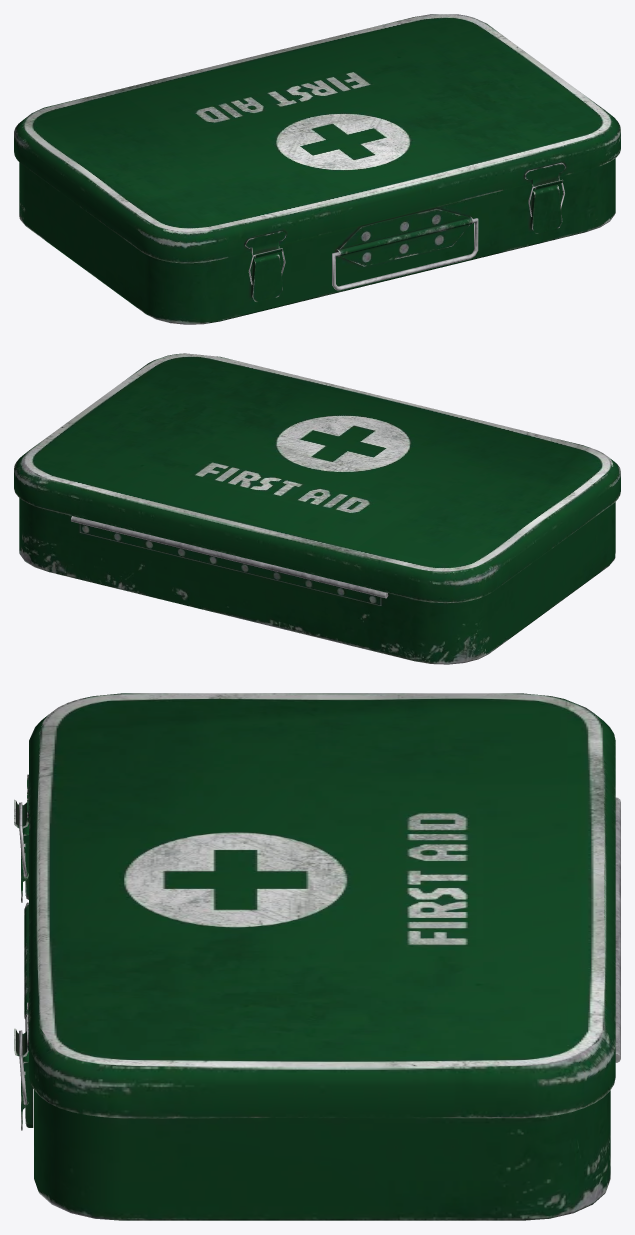
The model's file is medical_box.glb.
3 views of the same model, one above another, from view 1: azimuth 30°, elevation 25°; view 2: azimuth 150°, elevation 25°; view 3: azimuth 270°, elevation 25° (orthographic). The views are drawn at different scales.
Parts seen in each view (by area): view 1: medical_box_latch; view 2: medical_box_latch; view 3: medical_box_latch.
Part boxes in pixels (<box>): medical_box_latch: <box>14,14,620,324</box>; medical_box_latch: <box>14,353,620,664</box>; medical_box_latch: <box>14,693,620,1220</box>.
Size of the model in its own units: 0.5255 by 0.0975 by 0.3501.
Materials: 1 (1 with a texture image).
